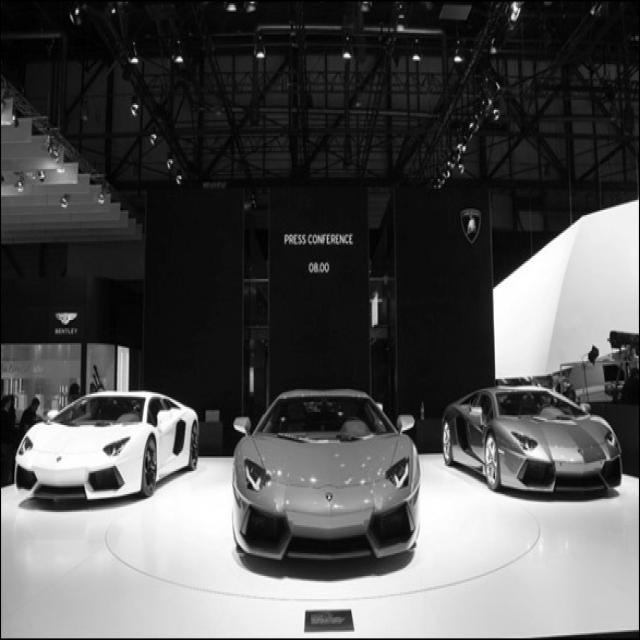car: (231, 388, 420, 562), (14, 389, 199, 502), (440, 384, 622, 494)
